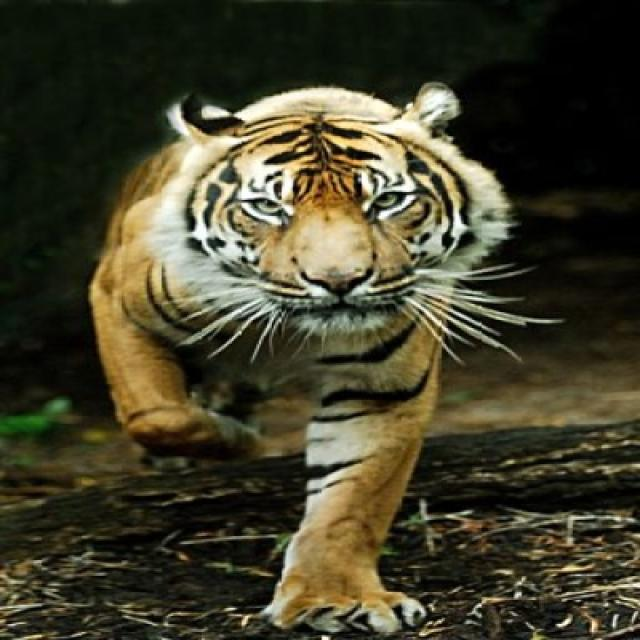Tiger: (98, 87, 517, 630)
